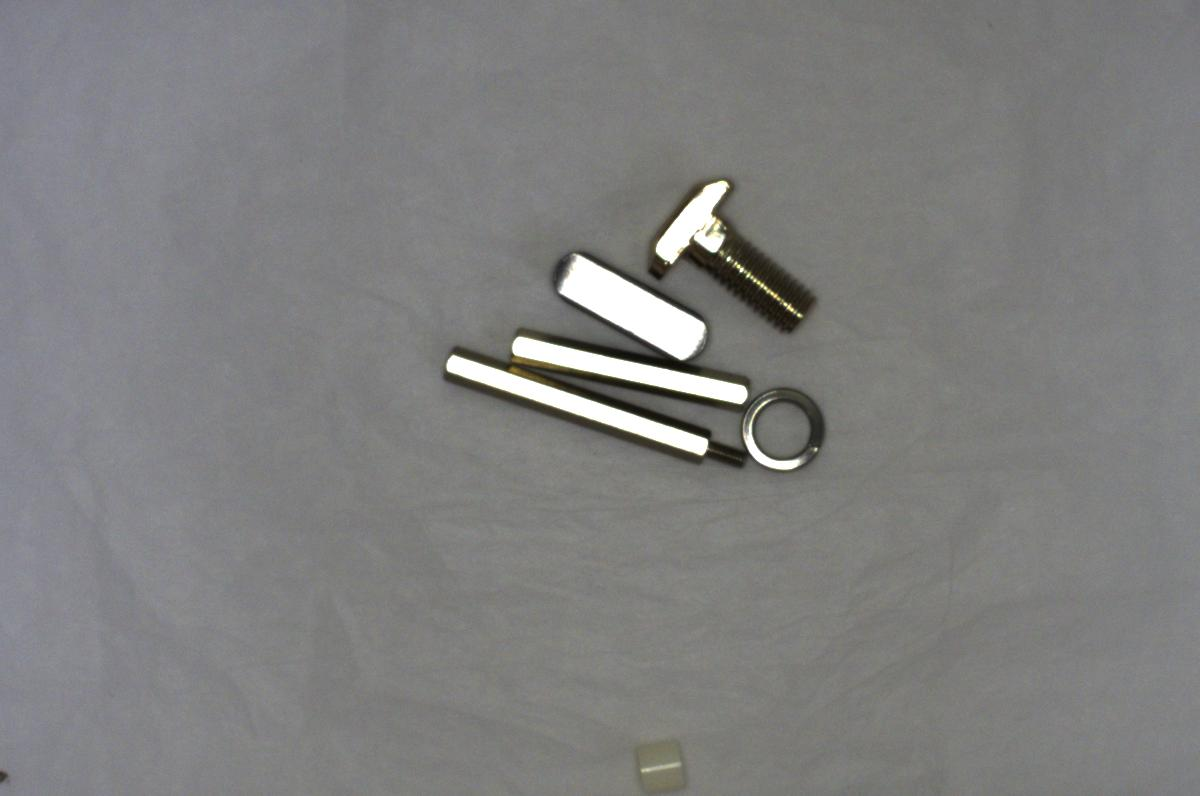Double hexagonal column: (503, 317, 757, 415)
Hexagonal steel column: (428, 341, 752, 478)
Keybar: (548, 248, 719, 367)
Plastic cushion pillar: (616, 719, 700, 795)
Spring washer: (734, 376, 837, 474)
T-shaped screw: (644, 169, 829, 341)
